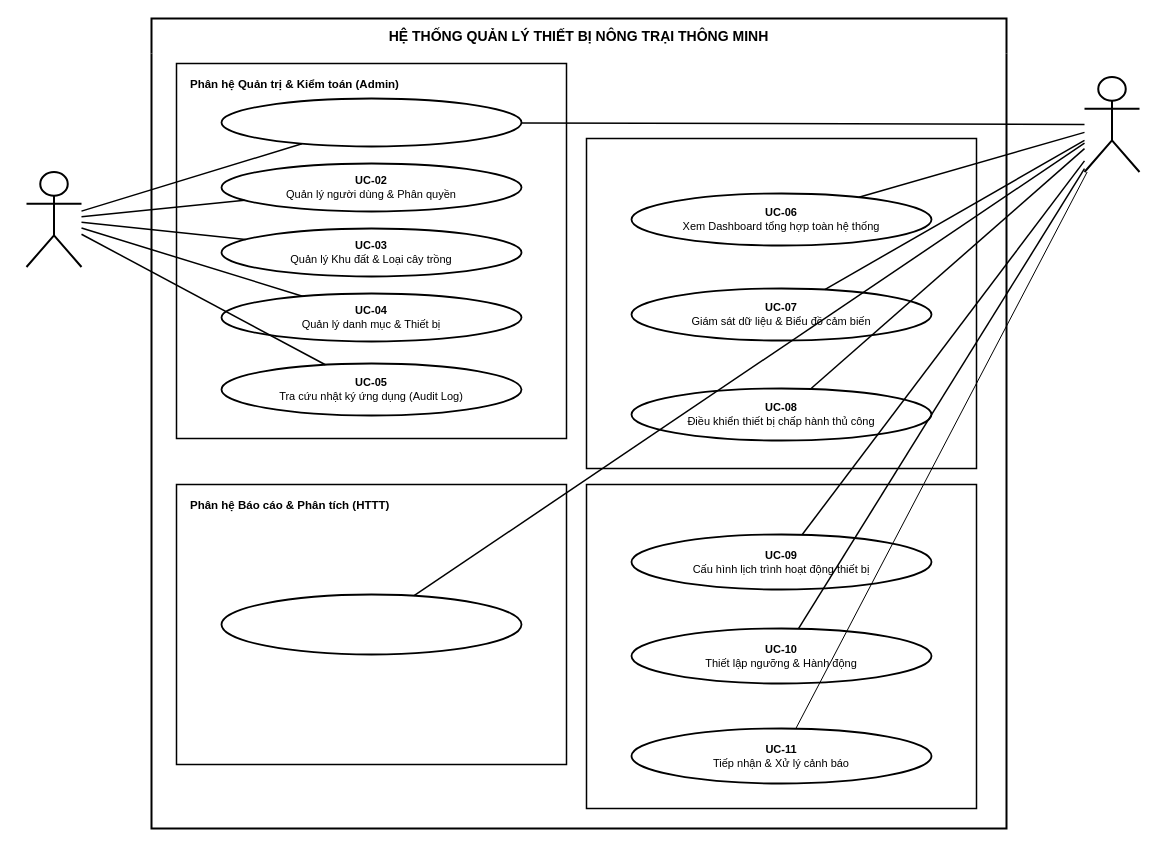
This 1175x846 diagram has some shape labels left out. The box of each missing label's shape, as (x1, y1, x2, y2) in pixels:
Người vận hành (Operator): (1083, 76, 1140, 172)
Phân hệ Giám sát & Điều khiển: (585, 137, 977, 469)
Phân hệ Tự động hóa & Cảnh báo: (585, 483, 977, 809)
Quản trị viên (Admin): (25, 170, 82, 268)
UC-01 Đăng nhập / Đăng xuất hệ thống: (220, 97, 522, 147)
UC-12 Khai thác báo cáo đa chiều & Xuất dữ liệu: (220, 593, 522, 655)
